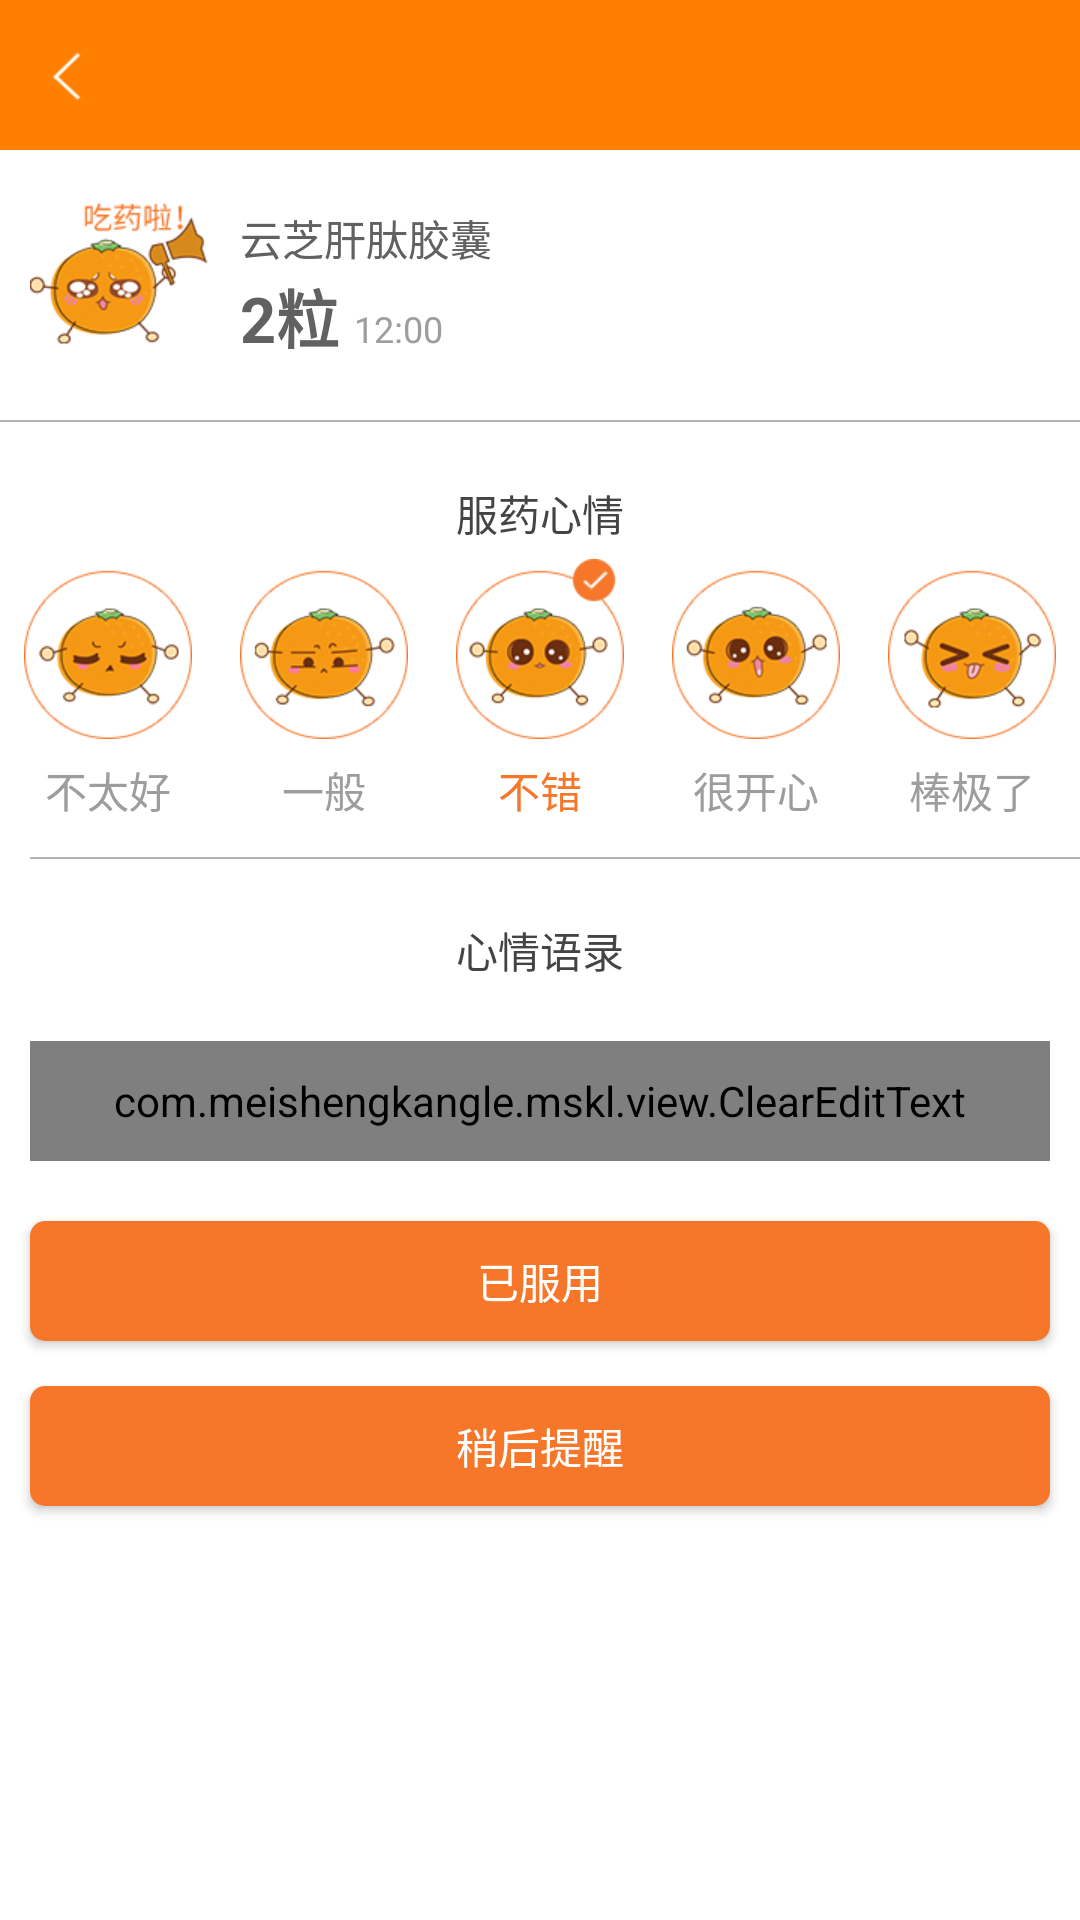

Icon click points for this 1080 x 1920 phone screenshot, format (x=x, y=y):
pic attention: (x=119, y=273)
title back: (x=67, y=76)
